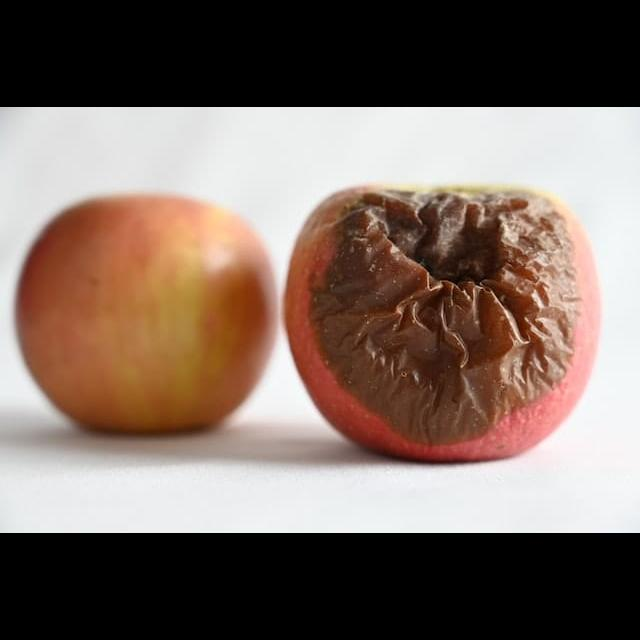Apel Segar: (23, 179, 267, 466)
Apel Tidak Segar: (286, 158, 614, 492)
